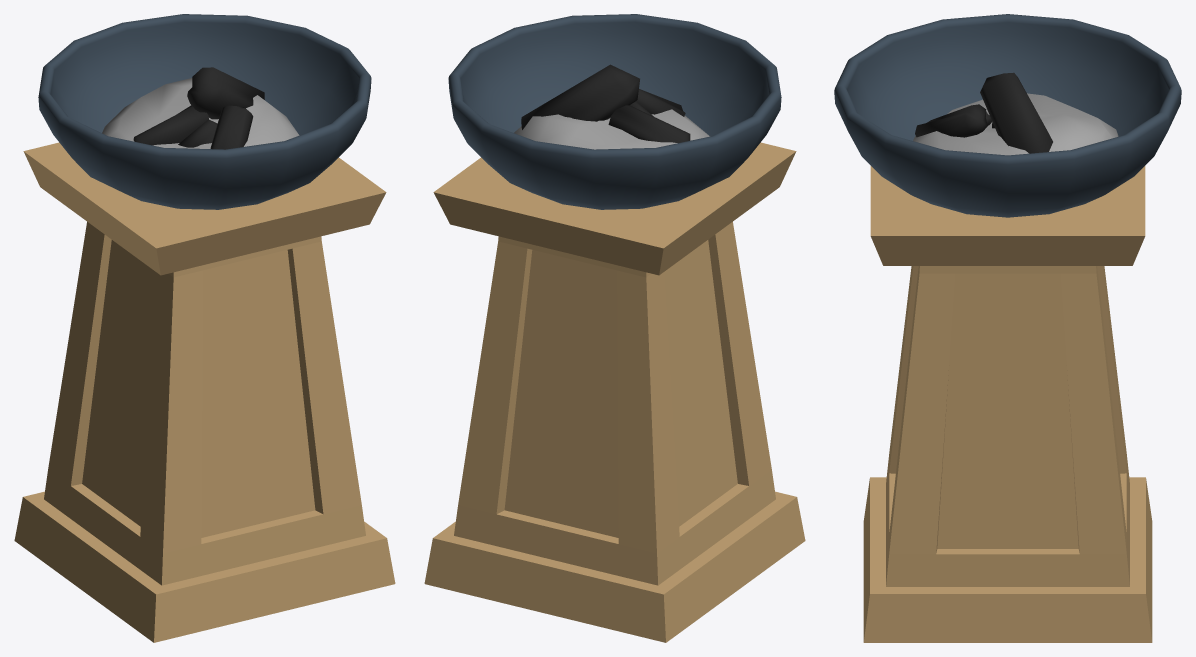
The model's file is FireBrazier_01_Tall.fbx.
3 views of the same model, side by side, from view 1: azimuth 30°, elevation 25°; view 2: azimuth 150°, elevation 25°; view 3: azimuth 270°, elevation 25° (orthographic). The views are drawn at different scales.
Parts seen in each view (by area): view 1: Base_02.002; view 2: Base_02.002; view 3: Base_02.002.
Boxes of the visible parts, x1=… form: Base_02.002: x1=14, y1=14, x2=395, y2=642; Base_02.002: x1=424, y1=14, x2=805, y2=642; Base_02.002: x1=834, y1=14, x2=1181, y2=642.
Size of the model in its own units: 164 by 267 by 164.
